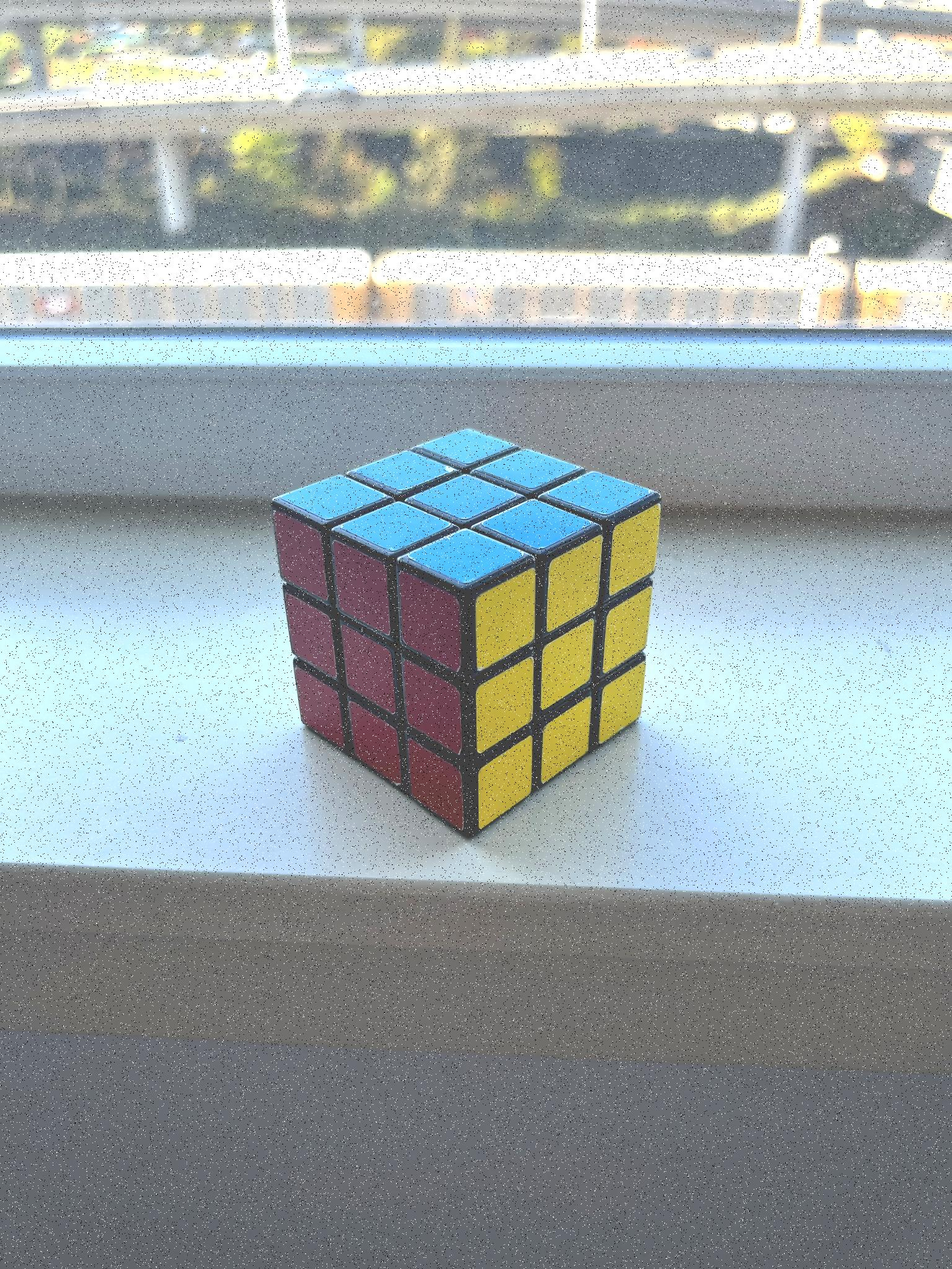rubiks_cube: (275, 429, 659, 828)
